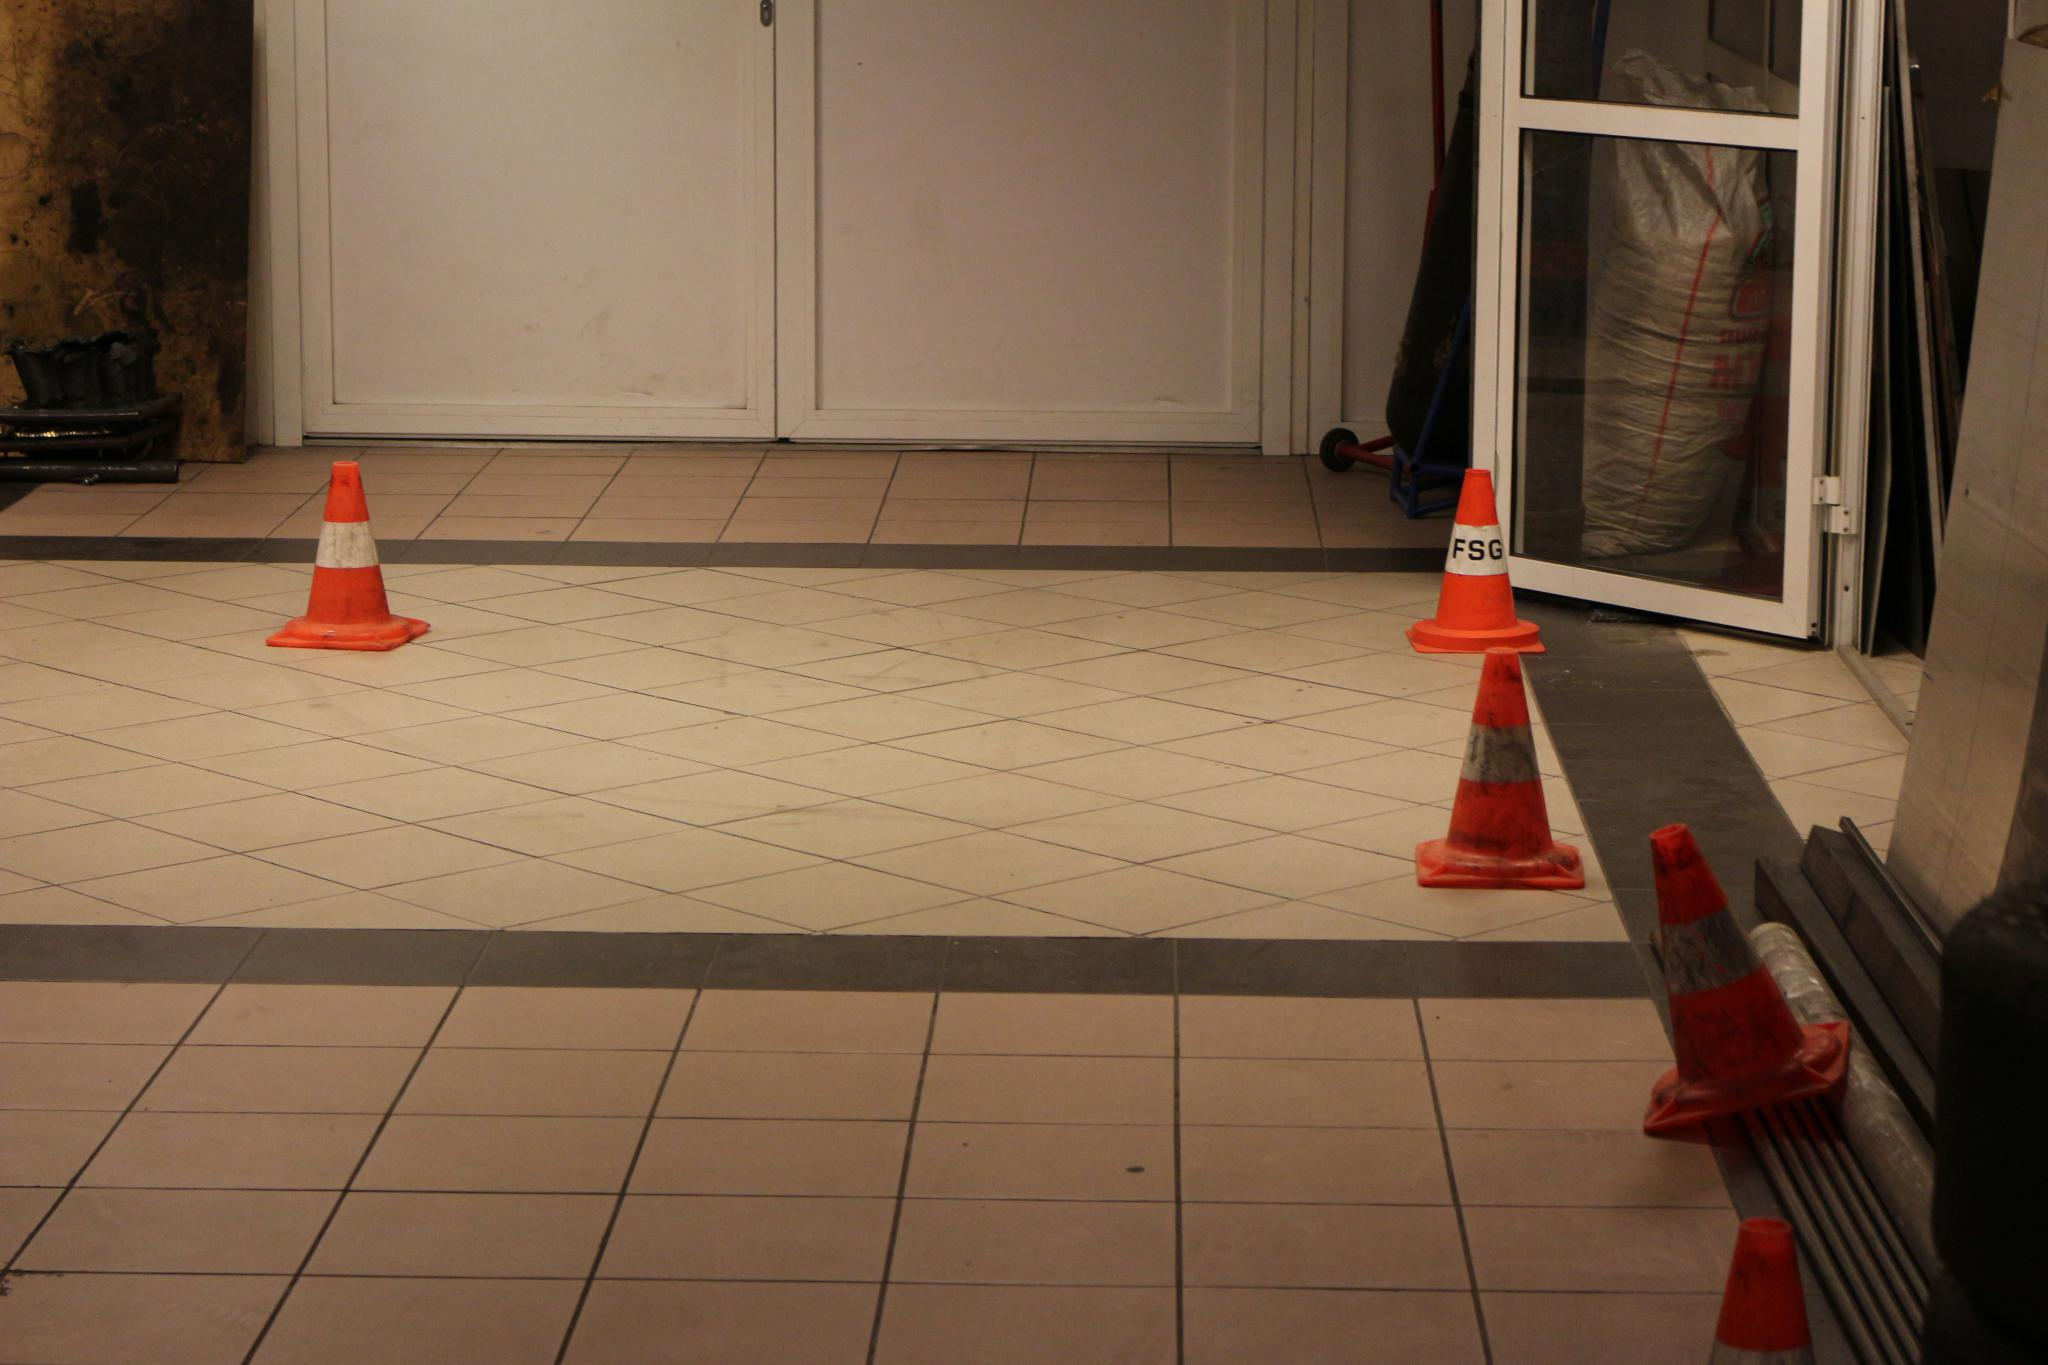Orange_Cone: (1635, 824, 1847, 1121), (1398, 652, 1587, 888), (260, 457, 419, 657), (1404, 466, 1544, 660), (1690, 1207, 1832, 1360)
